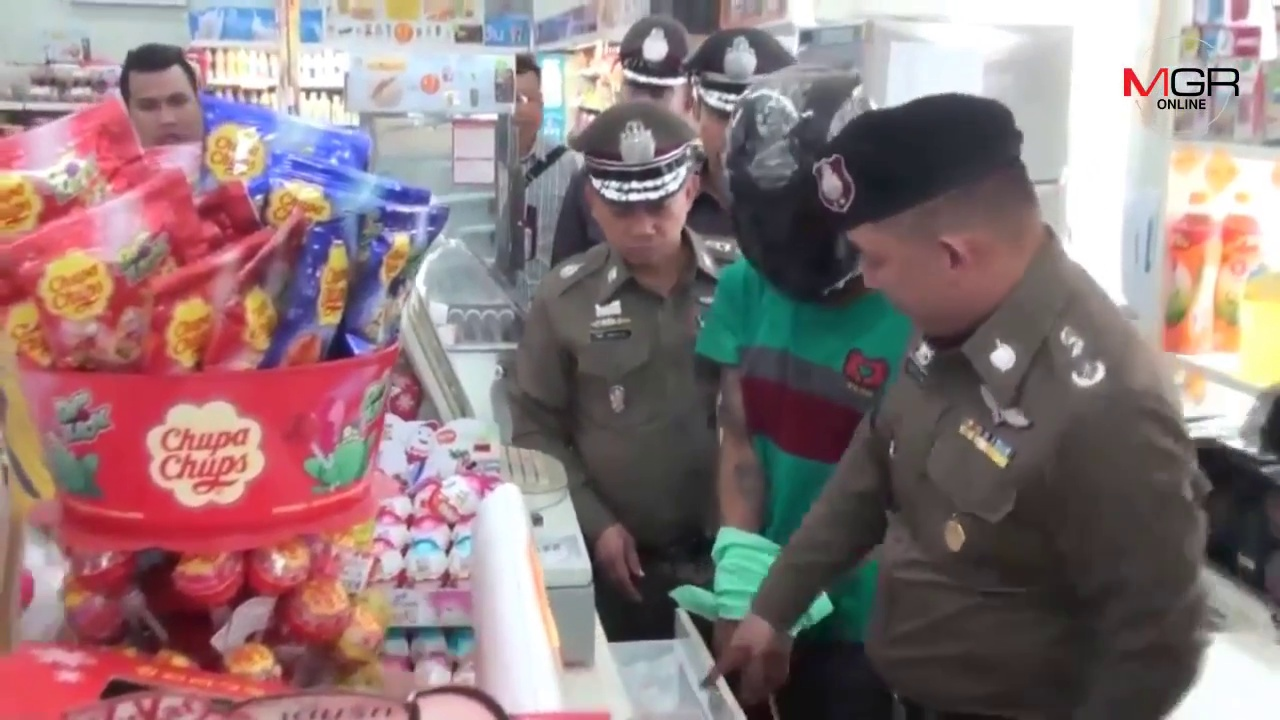helmet: (717, 73, 856, 308)
